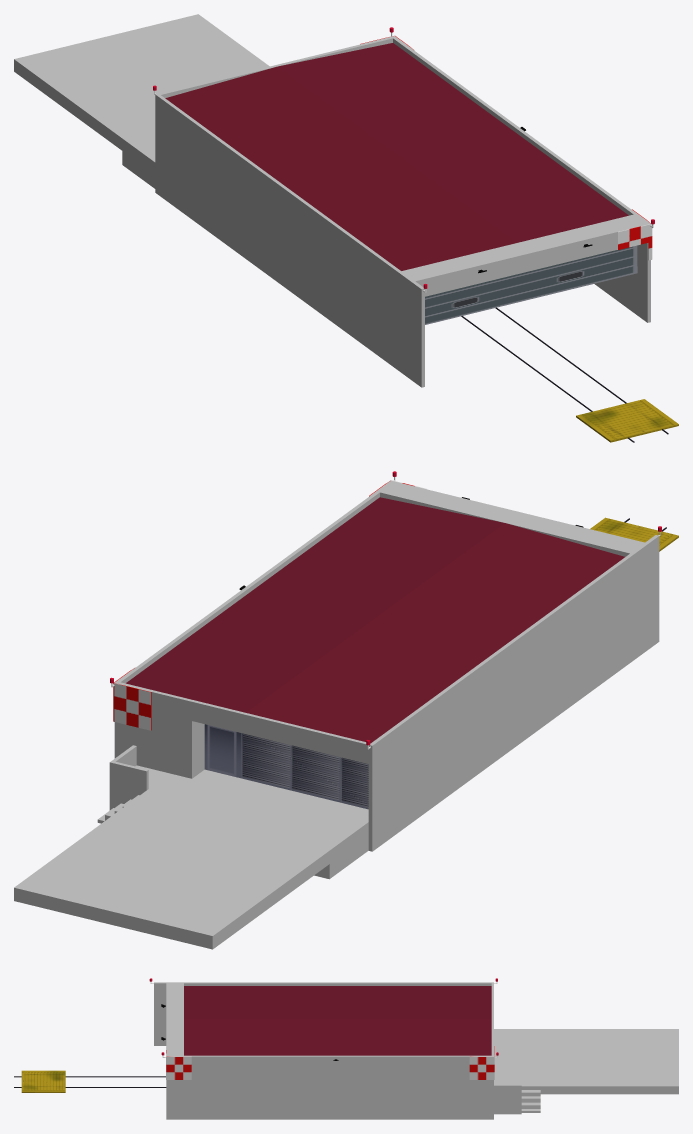
The model's file is Hangar_LOD00.gltf.
3 views of the same model, one above another, from view 1: azimuth 30°, elevation 25°; view 2: azimuth 150°, elevation 25°; view 3: azimuth 270°, elevation 25° (orthographic). The views are drawn at different scales.
Parts seen in each view (by area): view 1: walls, roof, sectional_door, Cube.002, checker_n; view 2: walls, roof, office_windows, checker_s, Cube.002; view 3: walls, roof, Cube.002, checker_nw, checker_sw.
Part boxes in pixels (bbox=[...]): walls: bbox=[14, 14, 650, 387]; roof: bbox=[165, 43, 628, 270]; sectional_door: bbox=[425, 245, 637, 324]; Cube.002: bbox=[576, 399, 678, 442]; checker_n: bbox=[618, 224, 652, 260]; walls: bbox=[14, 480, 659, 949]; roof: bbox=[126, 497, 624, 743]; office_windows: bbox=[204, 724, 368, 809]; checker_s: bbox=[114, 683, 151, 730]; Cube.002: bbox=[590, 517, 678, 551]; walls: bbox=[154, 982, 678, 1119]; roof: bbox=[184, 986, 491, 1055]; Cube.002: bbox=[21, 1070, 65, 1092]; checker_nw: bbox=[166, 1056, 191, 1079]; checker_sw: bbox=[469, 1056, 494, 1079].
Size of the model in its own units: 14.36 by 5.83 by 52.77.
